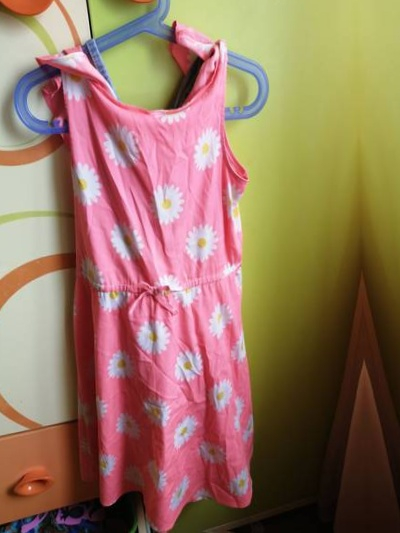Dress: (14, 3, 282, 524)
